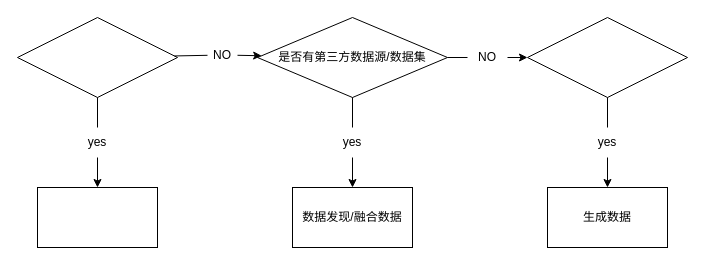
Some shapes in this 705 by 265 pixel diagram are drawn without their labels. The centre of each missing label's shape, as x and y in pixels:
"是否有生成数据的方法" goes at pixel 607 57.
"是否有足够的数据" goes at pixel 97 57.
